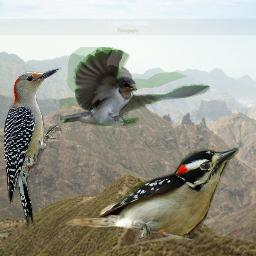Swallow: (60, 47, 210, 126)
Woodpecker: (65, 144, 239, 243), (4, 65, 63, 233)
